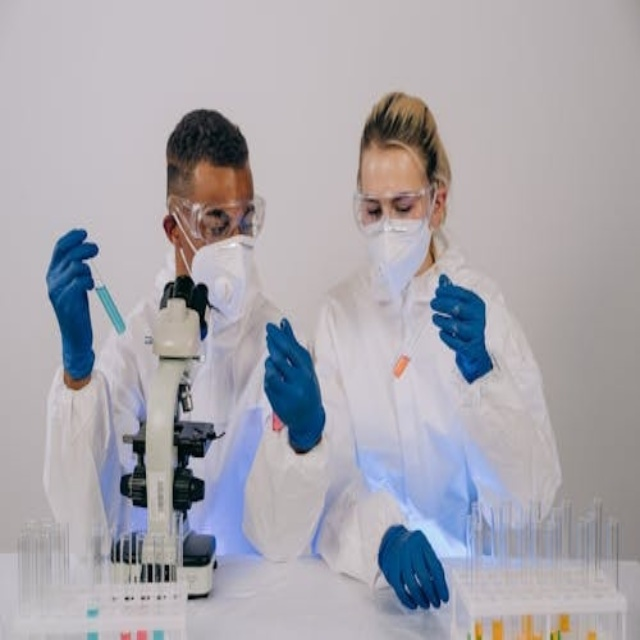Gafas: (168, 194, 265, 244), (354, 181, 437, 232)
Guantes: (35, 213, 105, 379), (259, 309, 329, 448), (425, 267, 500, 375), (376, 515, 453, 619)
Mascara: (359, 191, 434, 300), (180, 224, 259, 325)
